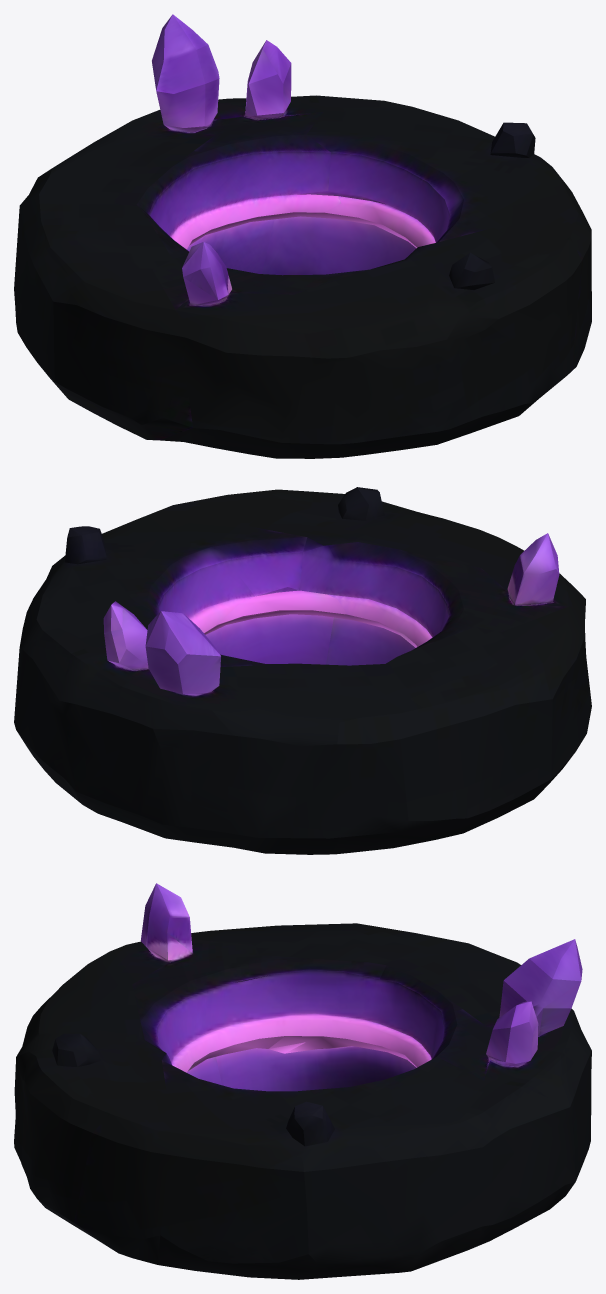
File: m2PortalAnchorPad.glb
3 views of the same model, one above another, from view 1: azimuth 30°, elevation 25°; view 2: azimuth 150°, elevation 25°; view 3: azimuth 270°, elevation 25° (orthographic).
Parts seen in each view (by area): view 1: model; view 2: model; view 3: model.
Part boxes in pixels (x1,y1,x2,y2): model: (14,14,591,458); model: (14,487,591,854); model: (14,883,591,1279).
Bounding box in the file's own units: 1.89 × 0.8584 × 1.89.
1 material, 1 textured.
